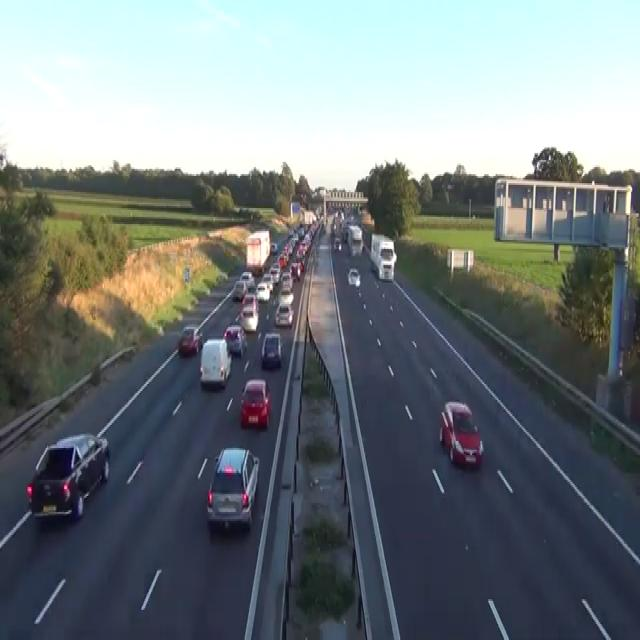Car: (26, 432, 110, 521), (206, 446, 259, 532), (439, 400, 484, 468), (239, 378, 271, 428), (222, 323, 247, 358), (260, 331, 283, 368), (178, 326, 203, 356), (236, 304, 258, 332), (274, 302, 294, 327), (241, 291, 258, 313), (232, 279, 247, 301), (255, 282, 270, 300), (279, 286, 294, 304), (240, 270, 254, 288), (348, 224, 362, 242), (347, 267, 360, 286), (290, 261, 301, 281), (281, 270, 292, 290), (269, 265, 281, 283), (262, 274, 274, 292), (277, 252, 287, 266), (241, 270, 253, 281), (247, 279, 256, 293), (333, 237, 341, 250), (270, 242, 277, 252), (446, 183, 453, 190), (288, 231, 293, 238)
Truck: (199, 338, 231, 388), (370, 233, 397, 281), (245, 228, 270, 274), (446, 247, 474, 272), (347, 224, 363, 256), (290, 201, 300, 219)
